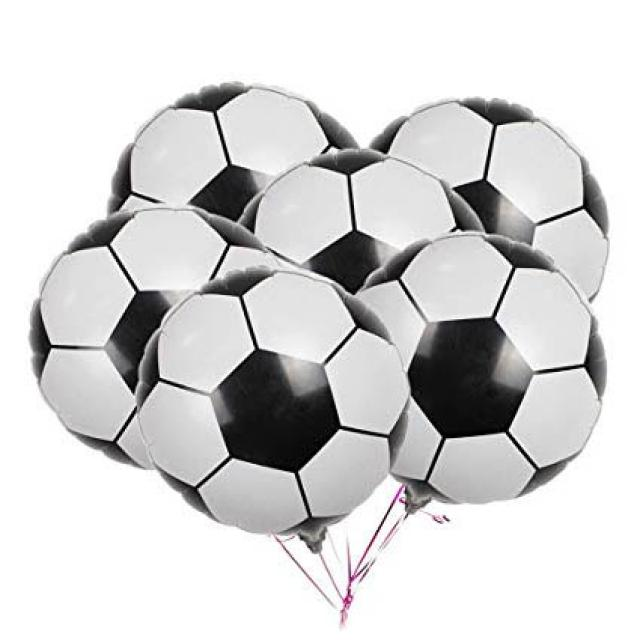soccer ball: (139, 270, 411, 534)
